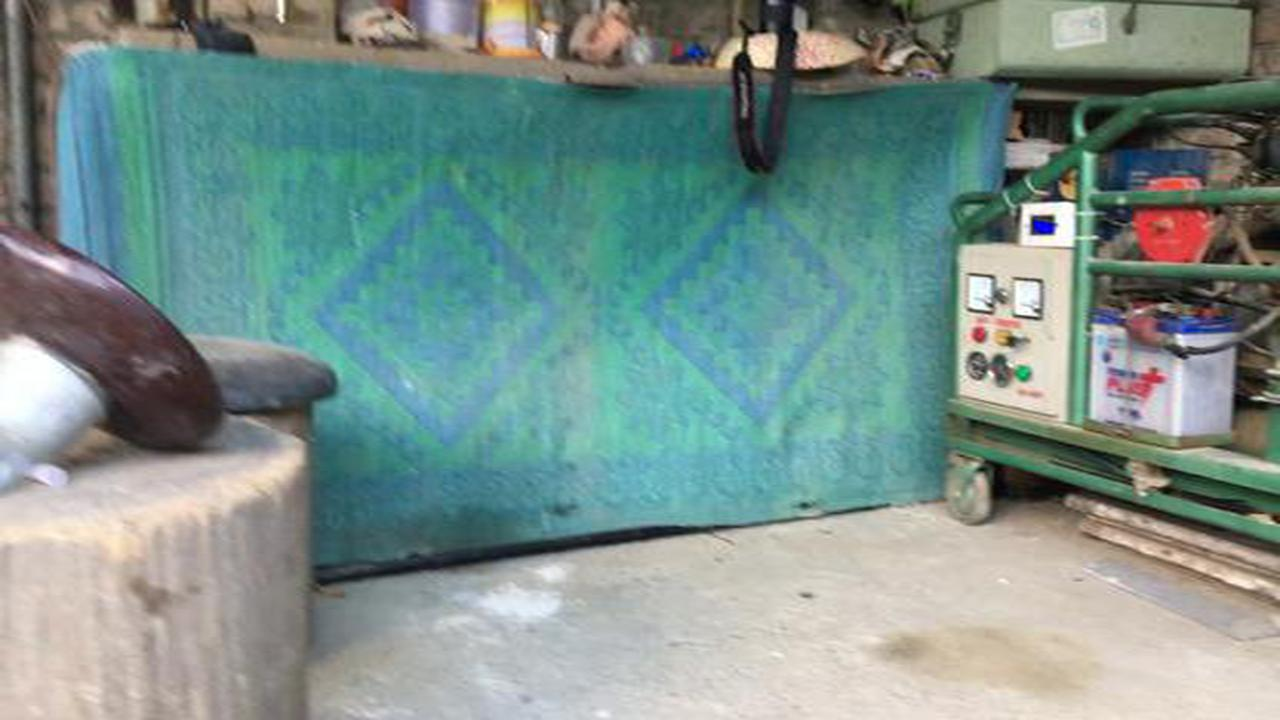insulator_disc: (3, 220, 231, 498)
